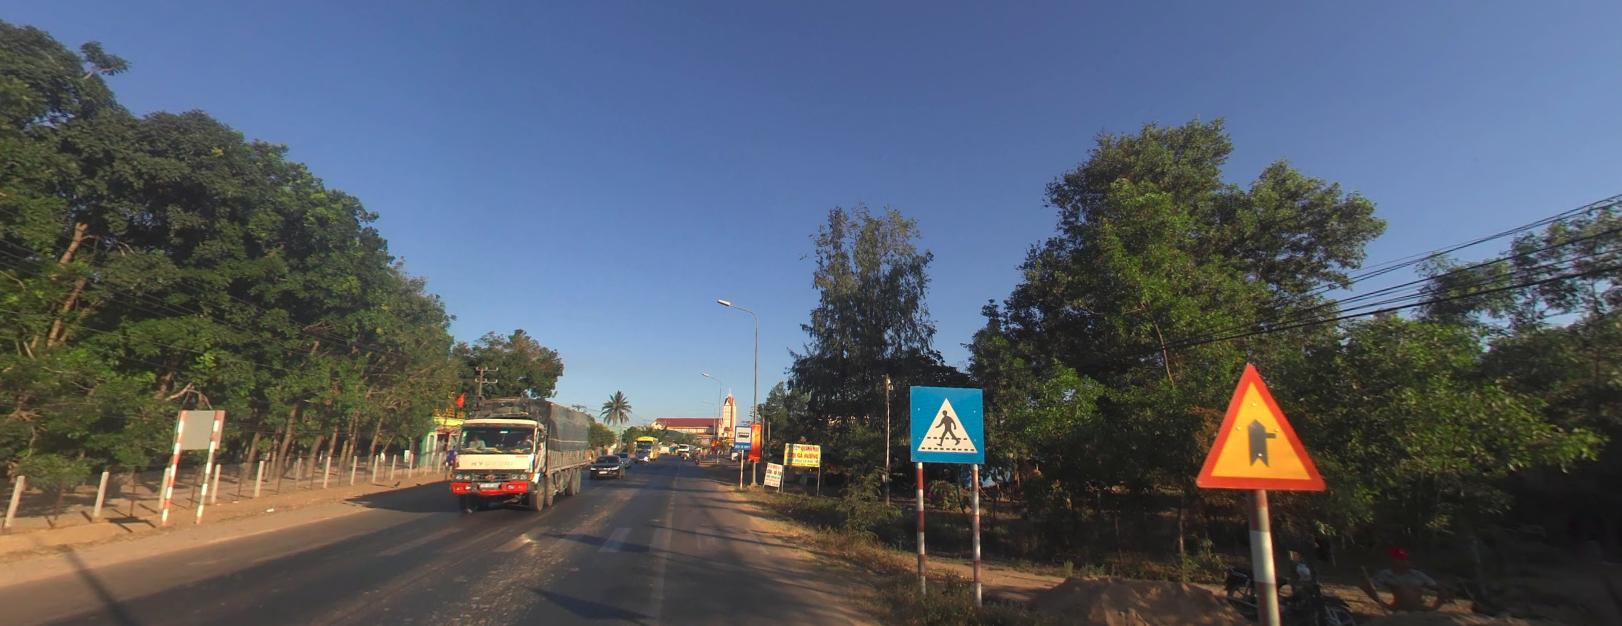Nguy hiem: (1189, 357, 1333, 496), (1196, 363, 1325, 489)
